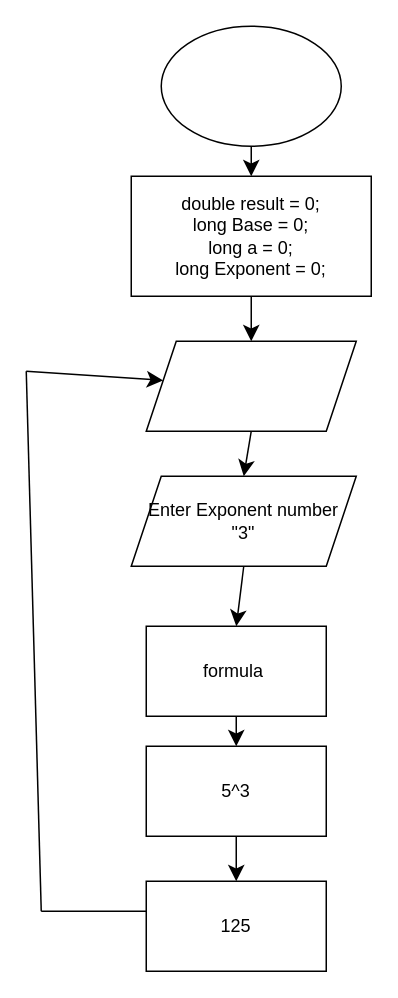
The diagram is 398 pixels wide and 998 high, and some of its shapes have lost their labels. The shapes that lost their labels are listed below. From the top down, each one's centre as x and y in pixels, then its label:
the point at 250,85: Start
the point at 250,385: Enter Base number "5'
